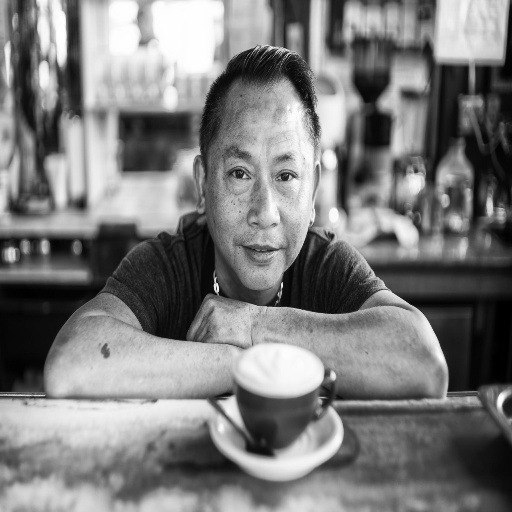hand: (183, 287, 253, 348)
